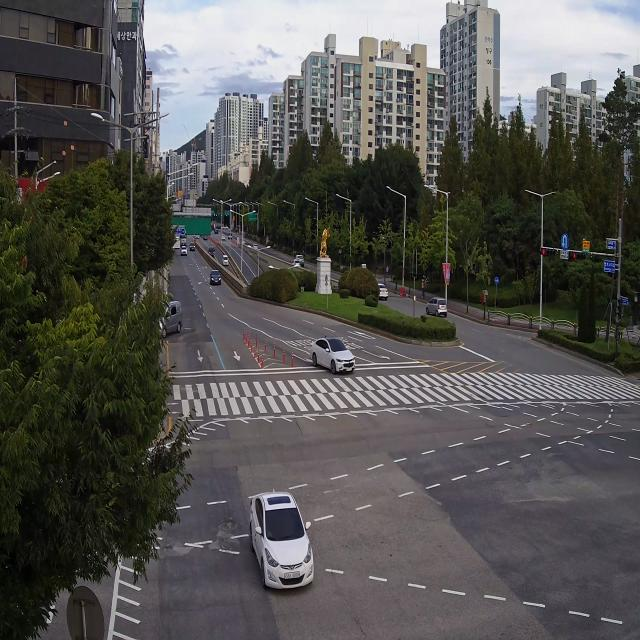Car: (239, 471, 322, 604), (306, 329, 361, 388), (156, 286, 188, 348), (424, 289, 449, 323), (204, 263, 226, 295), (372, 278, 389, 305), (292, 253, 306, 266), (222, 251, 230, 272), (290, 256, 300, 272), (179, 242, 188, 259), (189, 239, 197, 253), (220, 233, 227, 241)
Truck: (207, 245, 215, 260), (180, 228, 186, 246)
